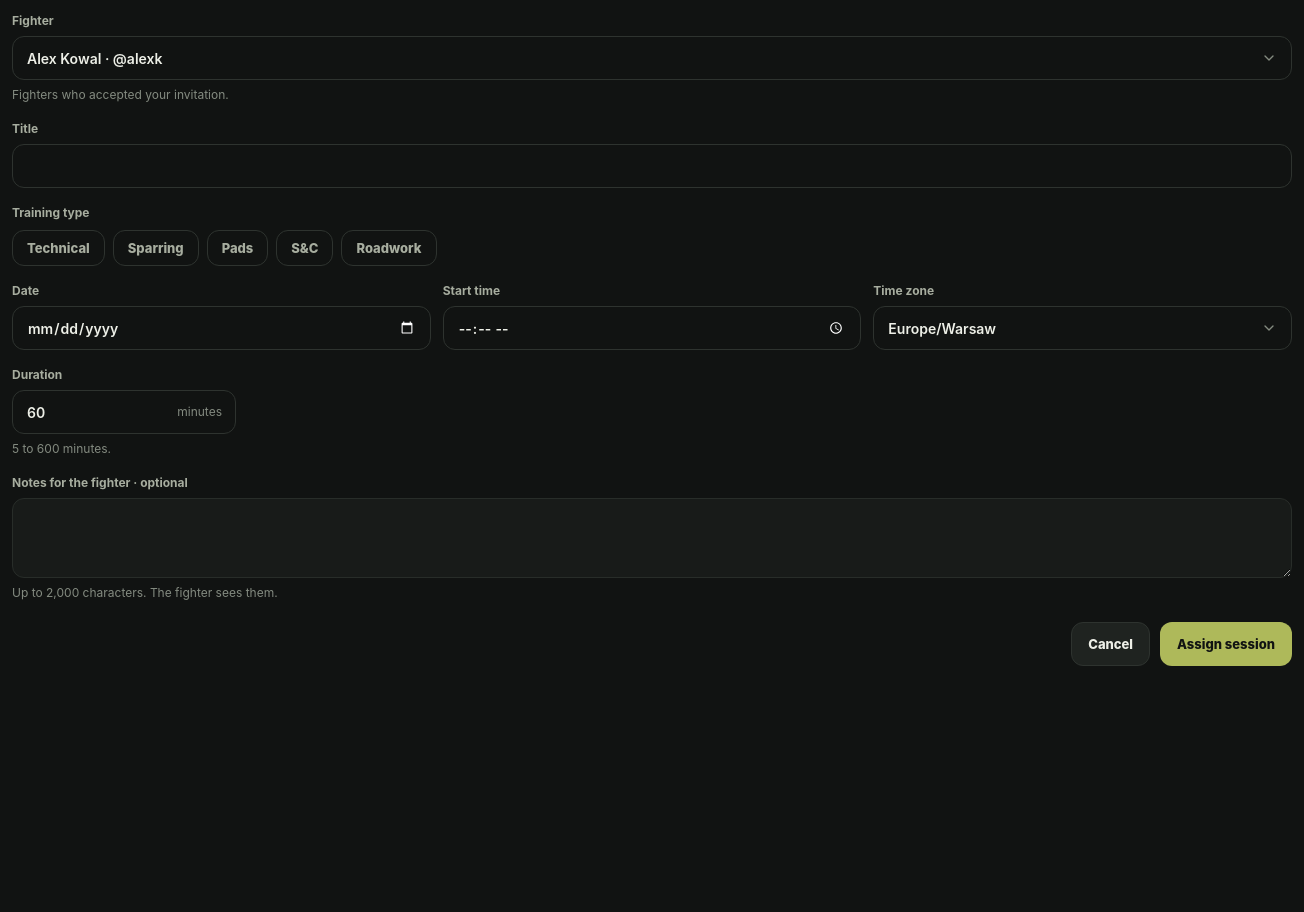
it: CreateTrainingSessionForm › shows the backend's field refusals on their fields
Type "  Technical boxing " into the field labelled "Title".
click(652, 166); type("  Technical boxing ")  # box [12,144,1292,188]
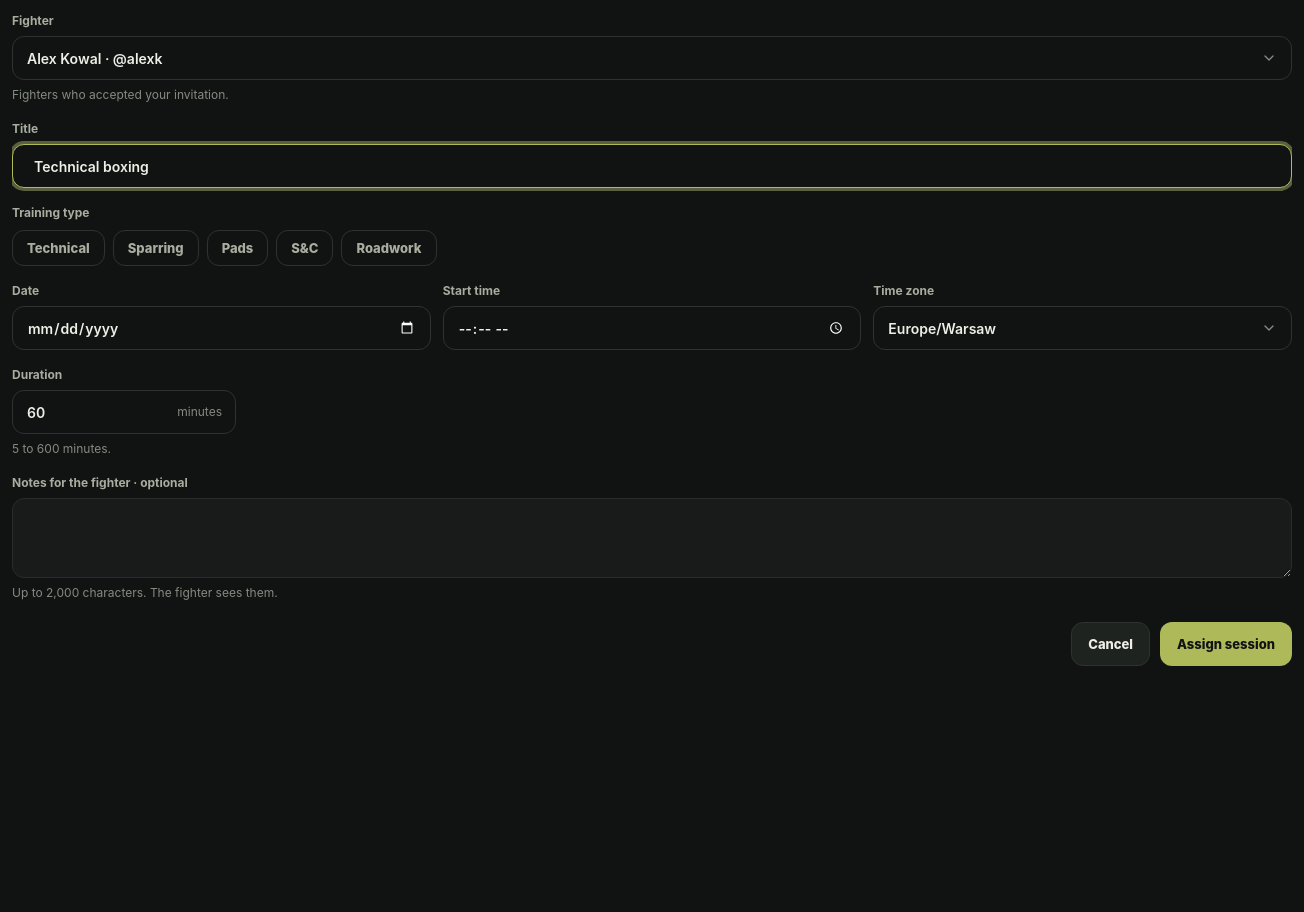
Click the radio button labelled "Technical".
click(58, 248)  # box [12,230,105,266]
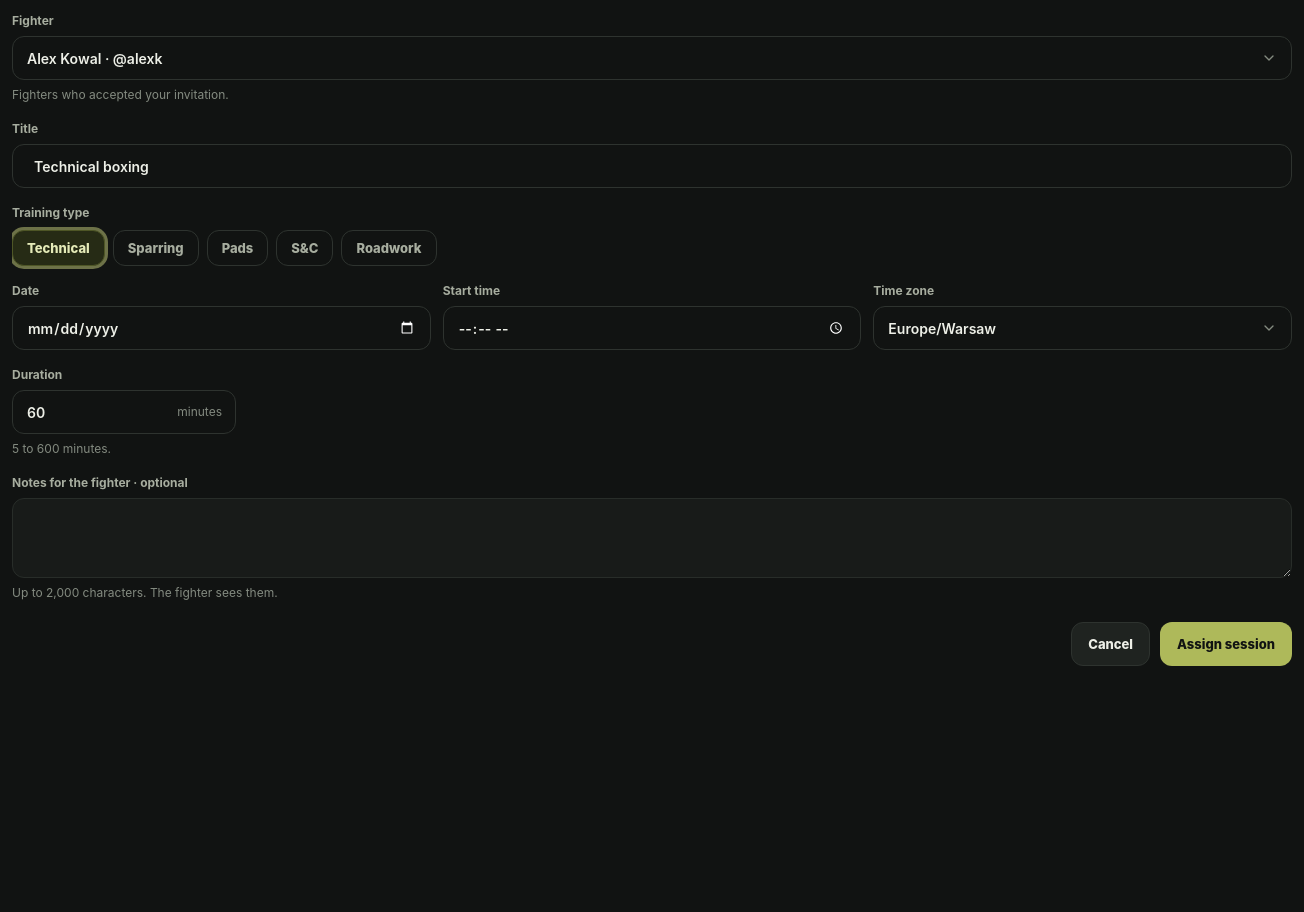
Type "2020-01-01" into the date field labelled "Date".
click(221, 328); type("2020-01-01")  # box [12,306,431,350]
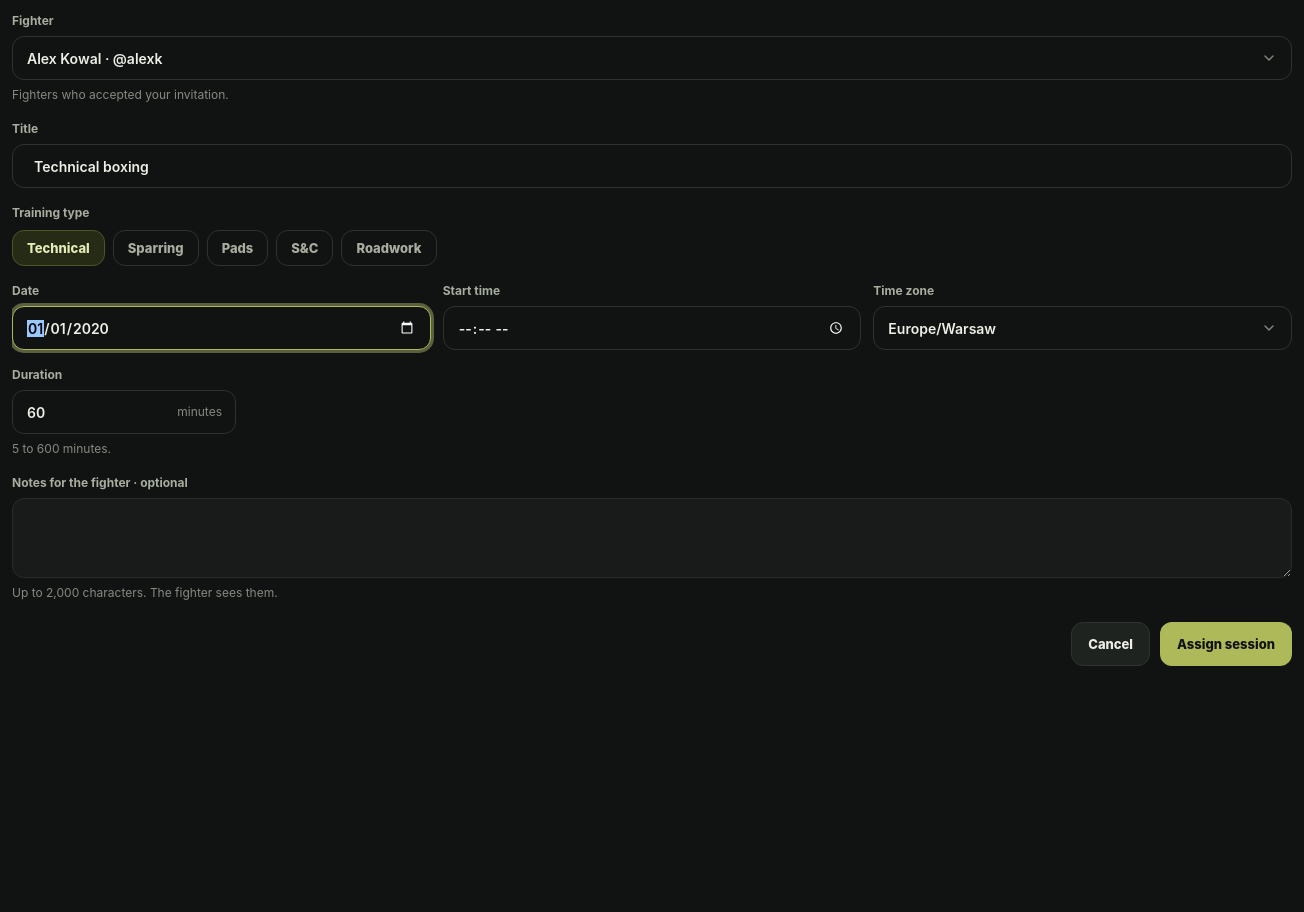
Type "18:00" into the time field labelled "Start time".
click(652, 328); type("18:00")  # box [443,306,861,350]
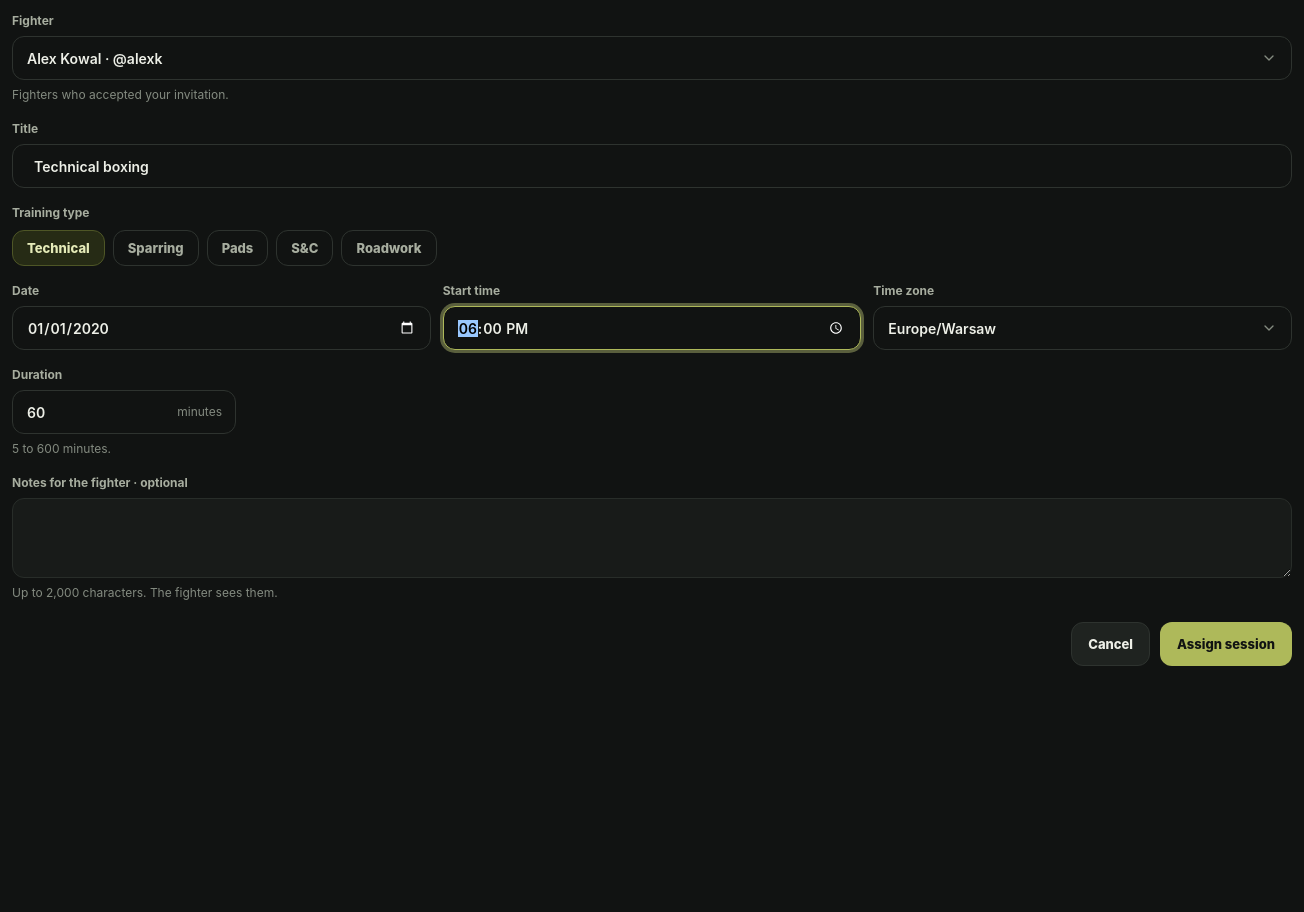
Click the button "Assign session".
click(1226, 644)  # box [1160,622,1292,666]
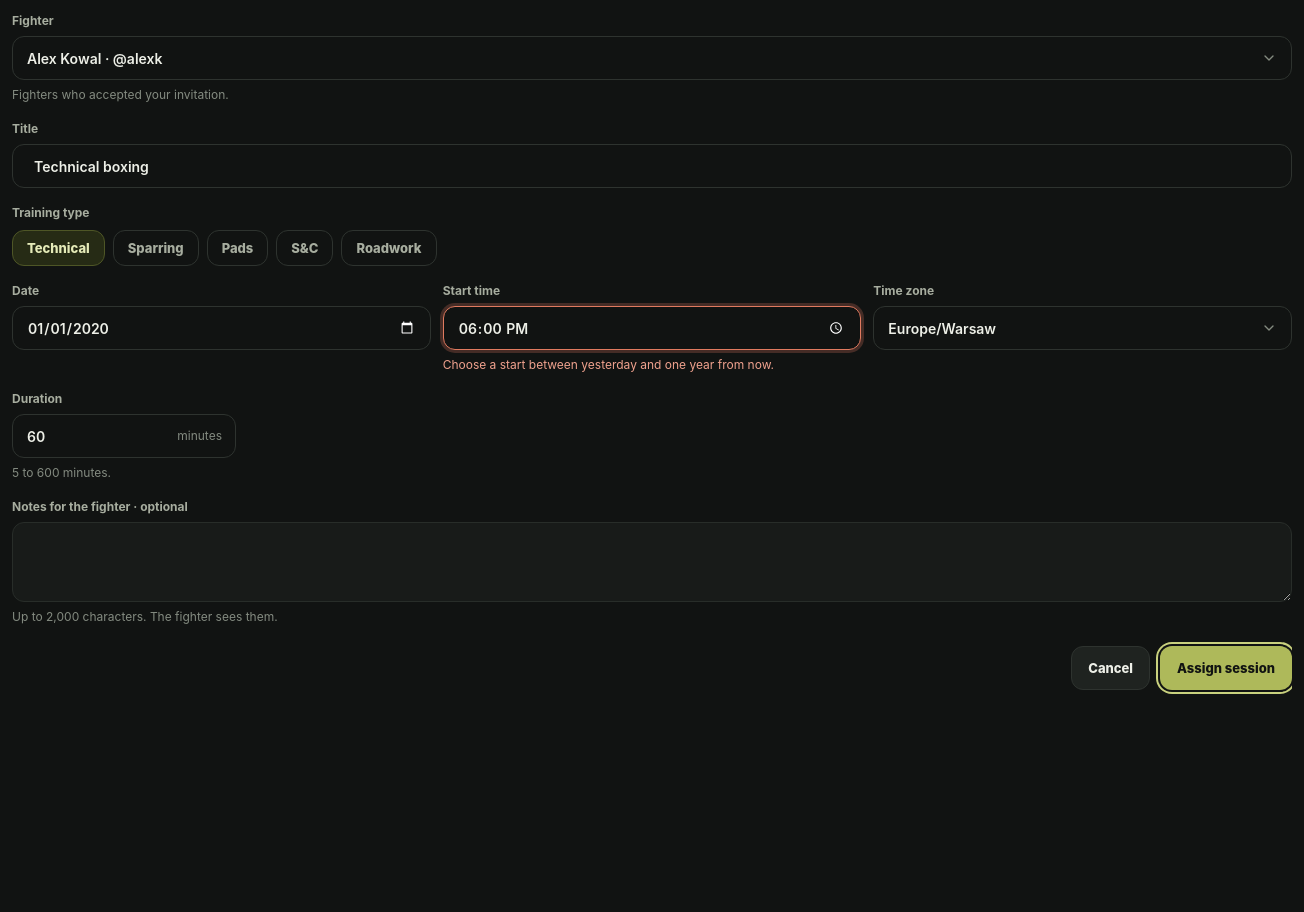
Expected: the text "Choose a start between yesterday and one year from now." is shown, [443,357,774,372]
